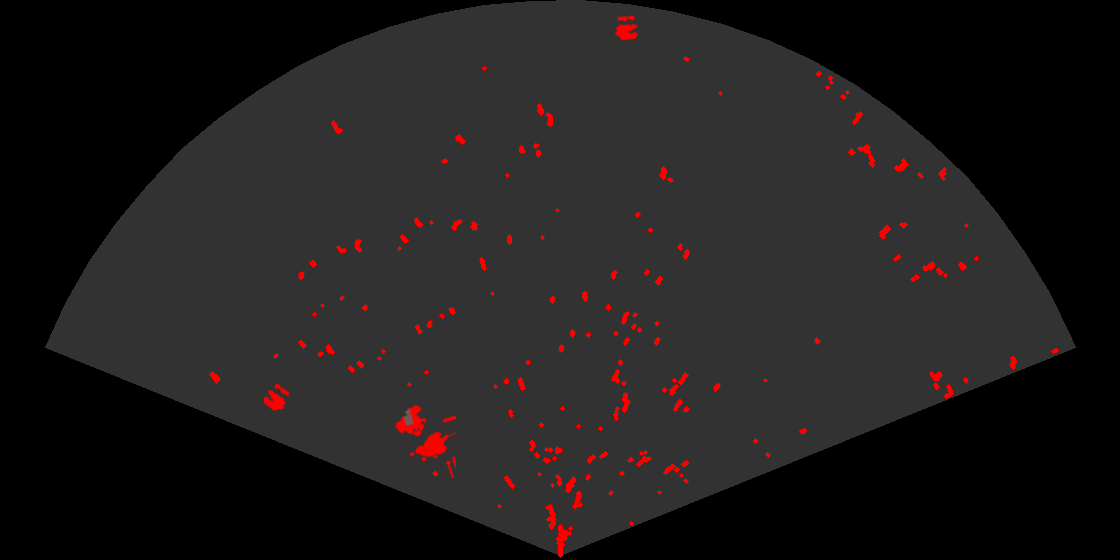ball: (261, 382, 291, 413), (614, 14, 640, 42)
cage: (393, 403, 456, 478)
